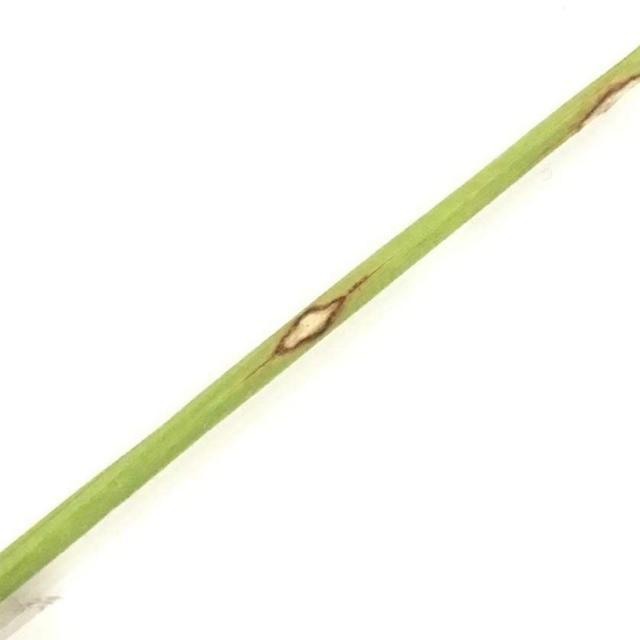Leaf_Blast: (261, 310, 380, 365), (571, 83, 640, 134)
